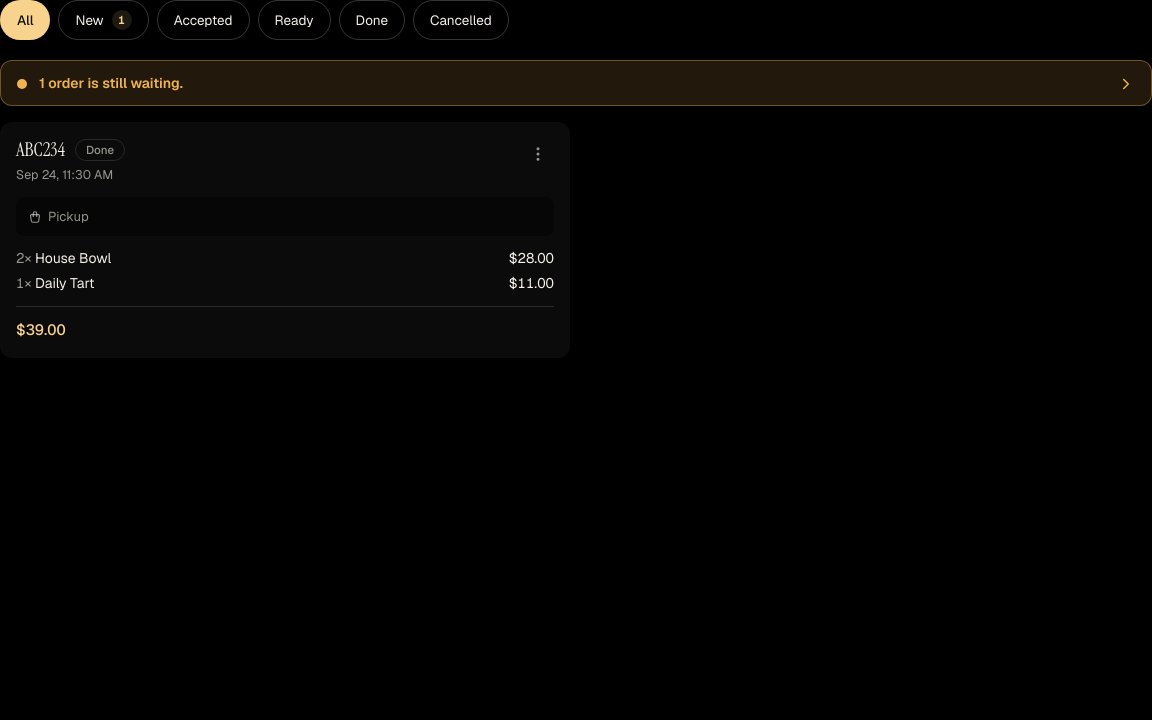
Test: OrdersPage › says so when an order could not be deleted, and keeps asking
What coordinates should you click on to do the following:
click the button named "More for order ABC234"
I would click on:
 (538, 154)
Its box is [522,138,554,170].
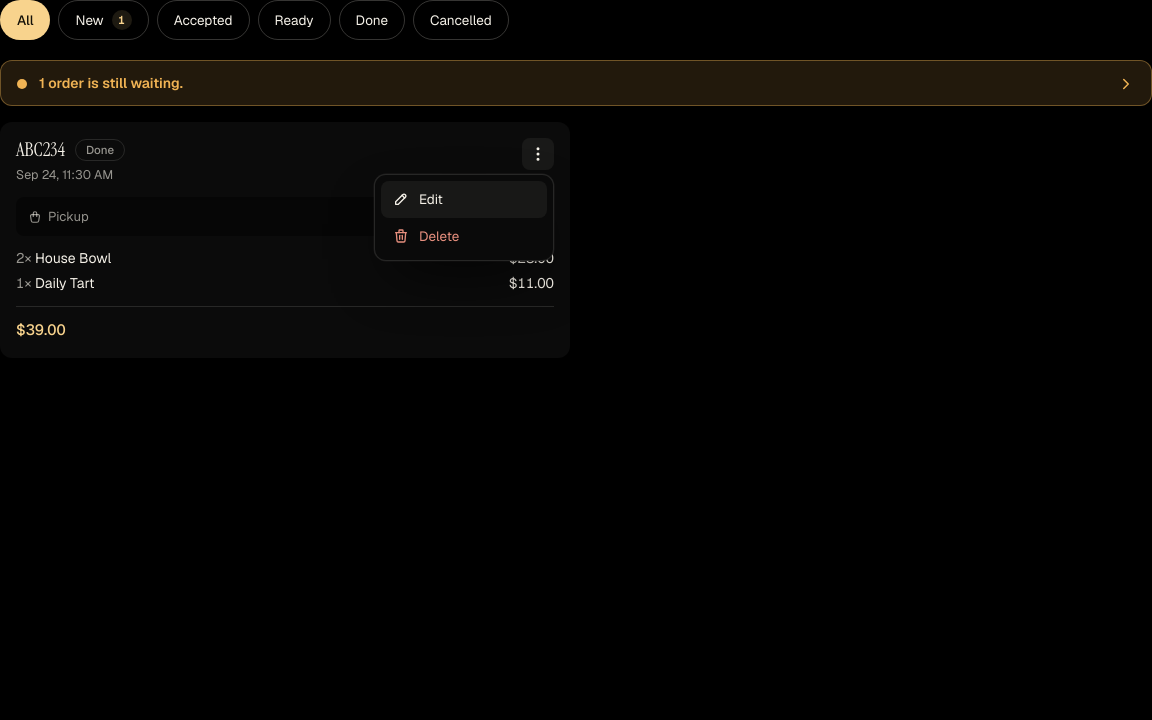
What coordinates should you click on to do the following:
click the menu item with aria-label "Delete order ABC234"
I would click on:
 (464, 236)
Its box is [381,218,547,254].
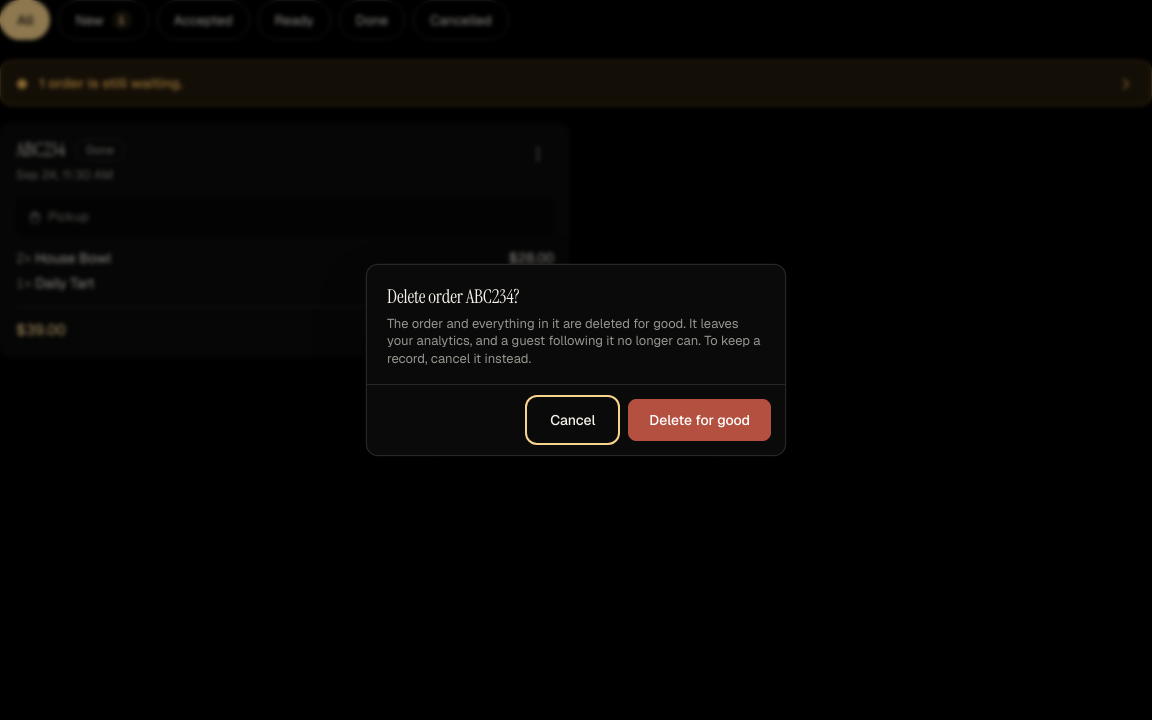
What coordinates should you click on to do the following:
click the button "Delete for good"
I would click on:
 (700, 420)
Its box is [628,399,771,441].
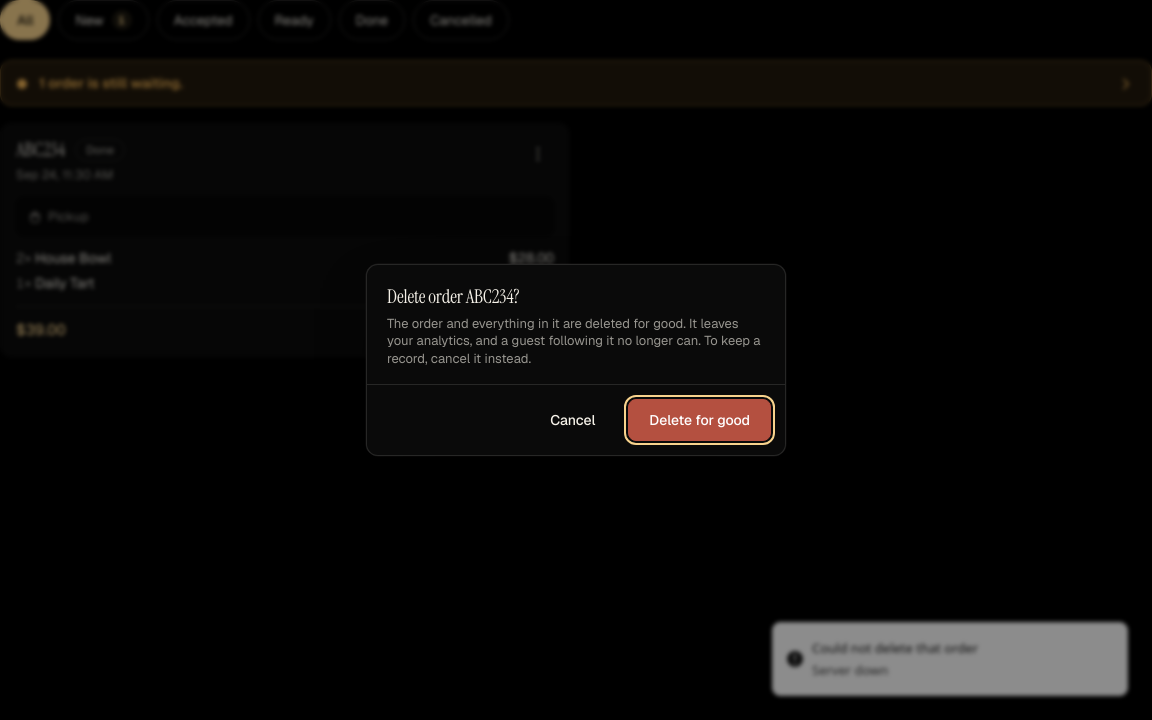
Result: the dialog is shown at [366,264,786,456]
Result: the text "Could not delete that order" is shown at [812,639,978,659]
